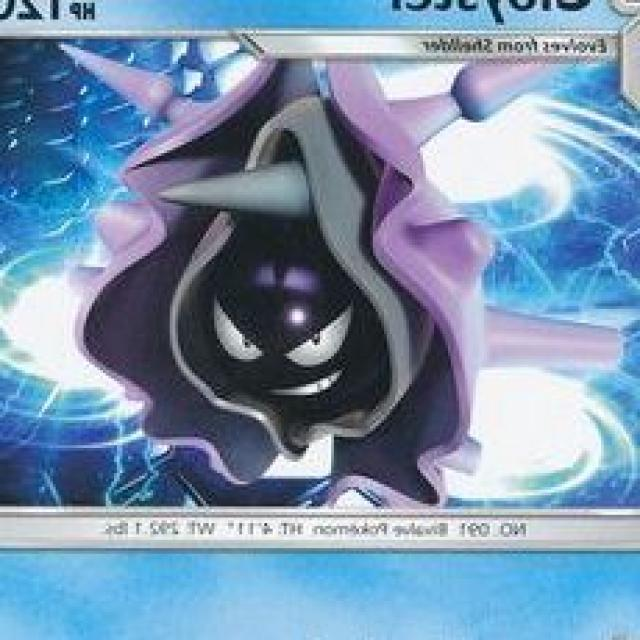Cloyster: (74, 64, 571, 504)
